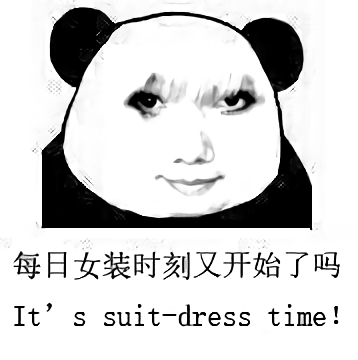dragon: (121, 72, 264, 197)
